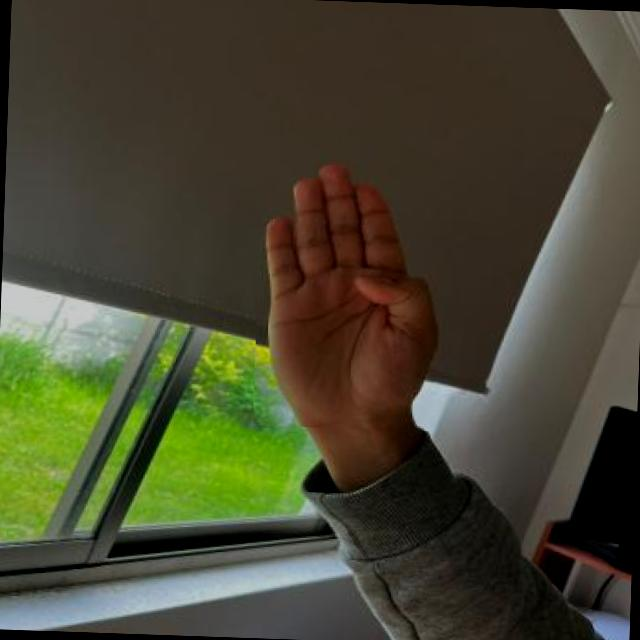B: (252, 151, 442, 431)
